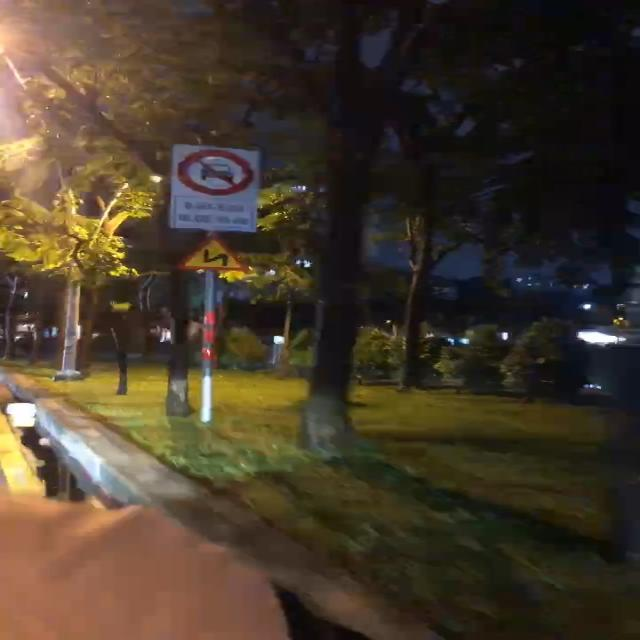Bien bao cam xe oto: (172, 142, 266, 198)
Bien bao nhieu cho ngoat nguy hiem lien tiep: (170, 229, 263, 281)
